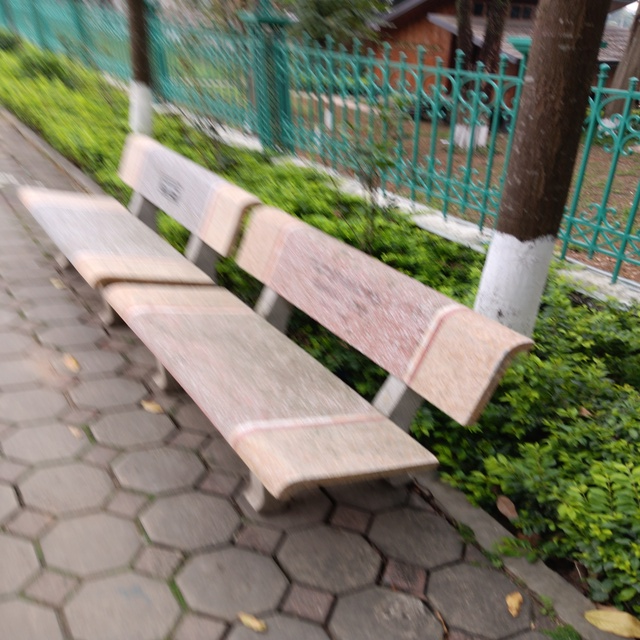gheda: (126, 207, 535, 521), (20, 134, 256, 330)
